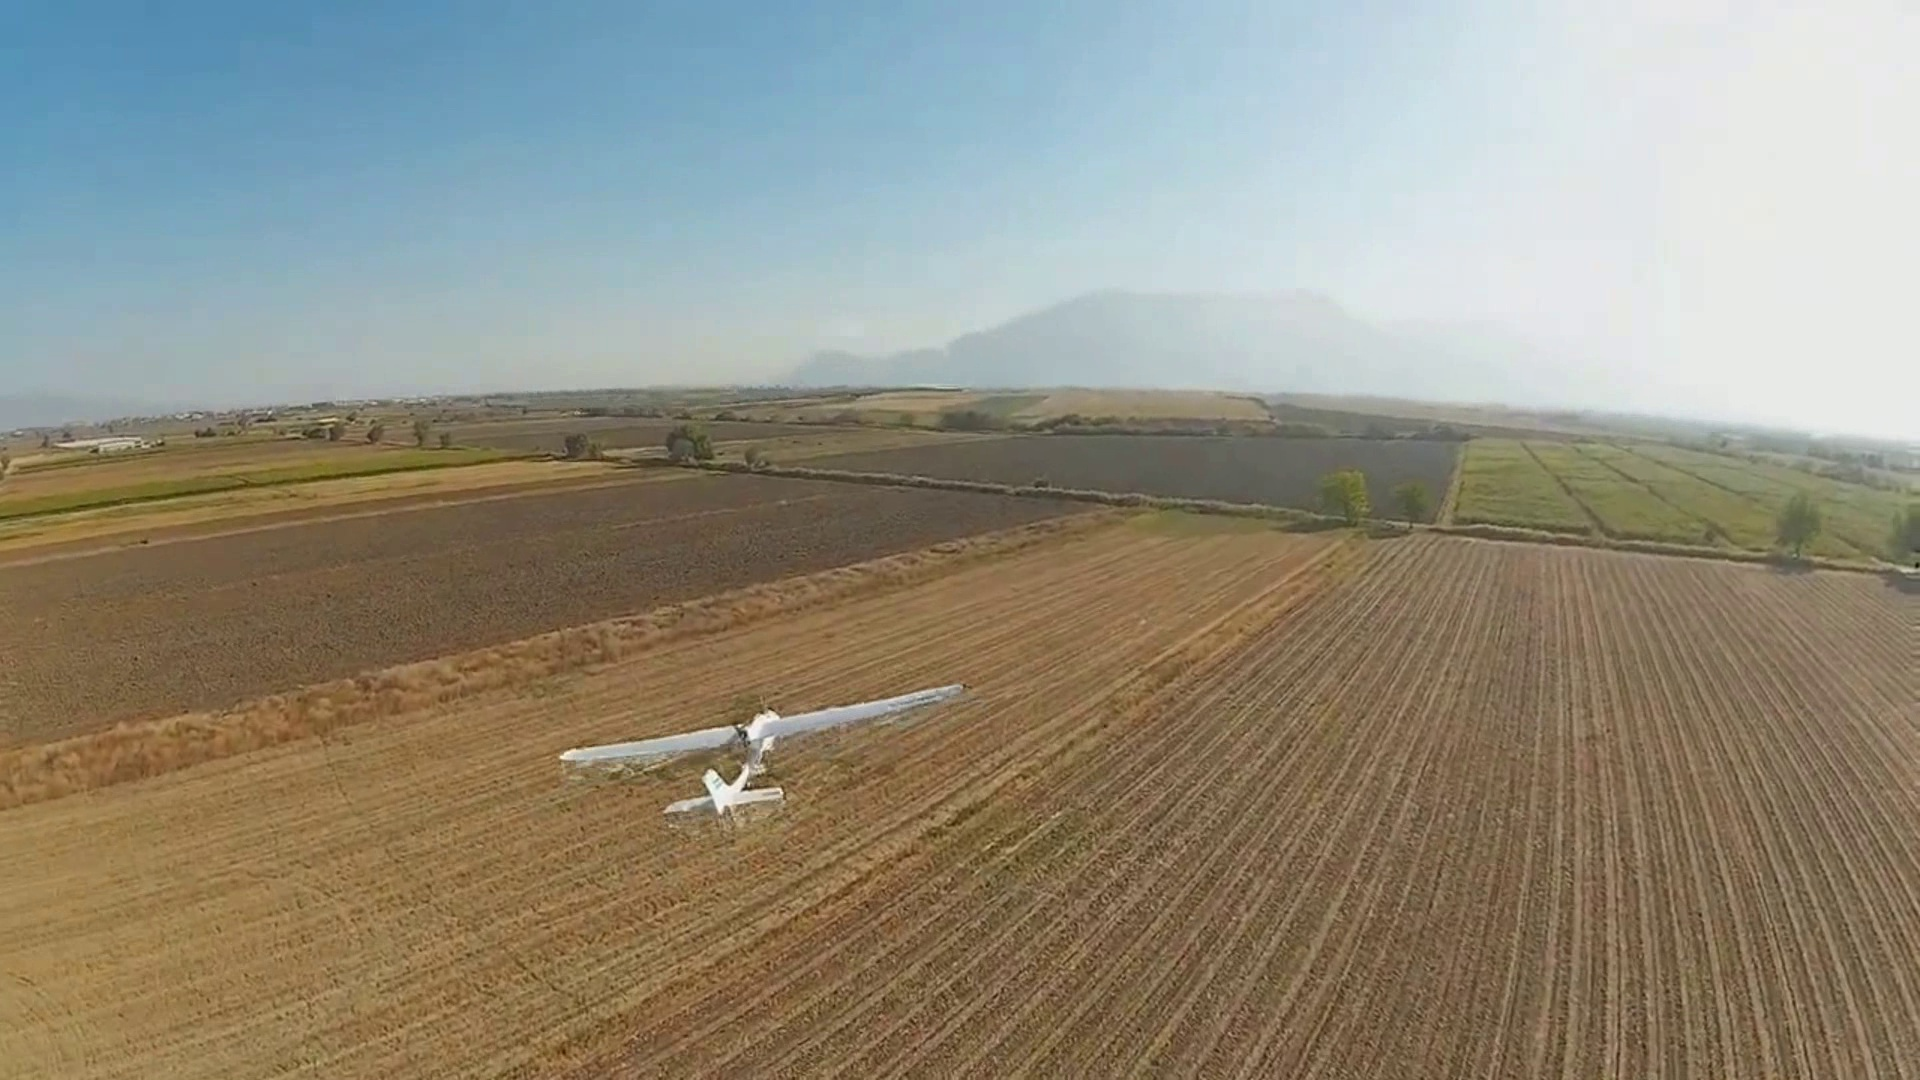airplane: (559, 684, 967, 823)
